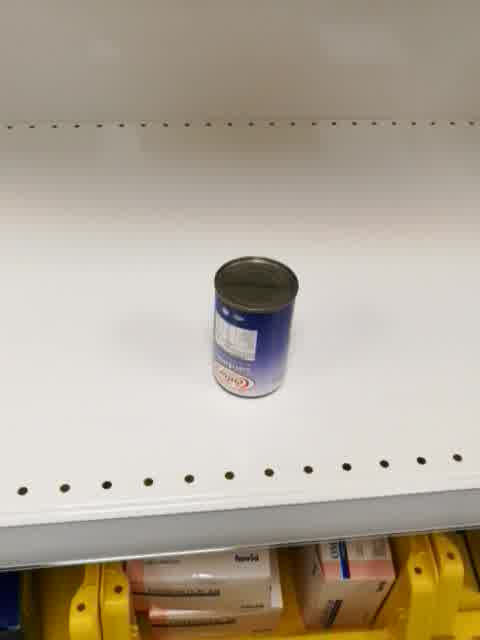sardine: (210, 255, 299, 399)
